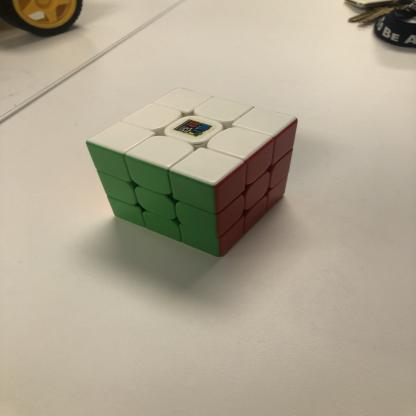SolvedCube: (69, 78, 335, 264)
